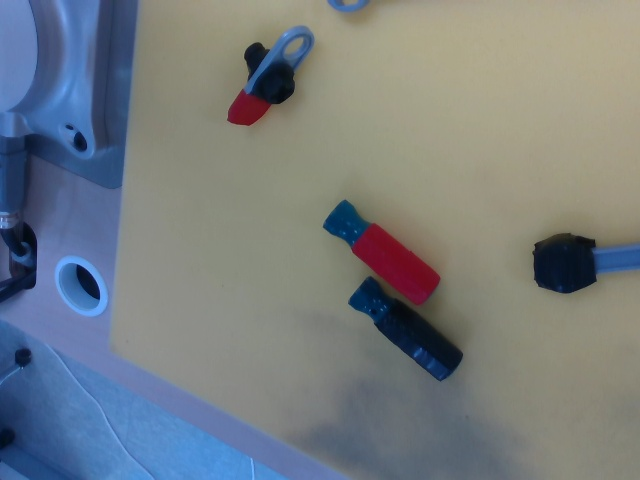part_1_good: (223, 23, 318, 130)
